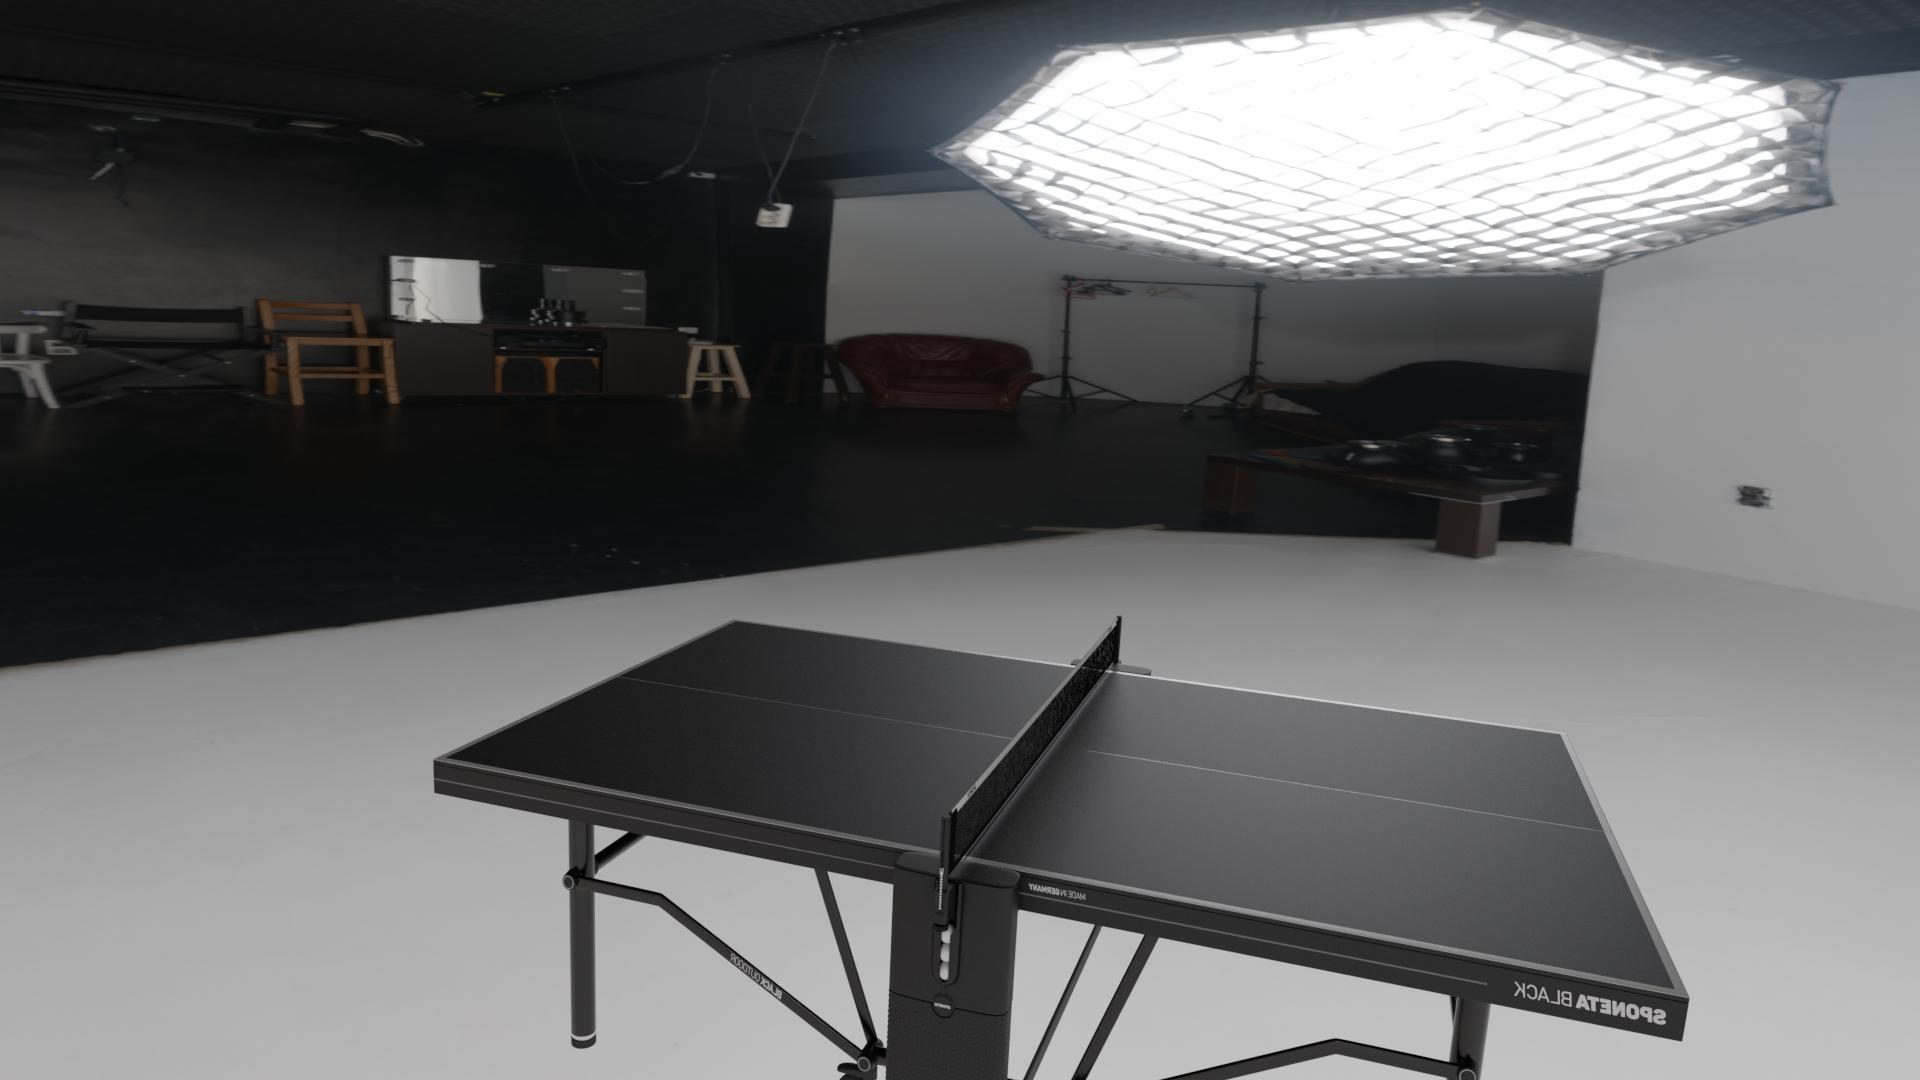table: (446, 621, 1675, 989)
